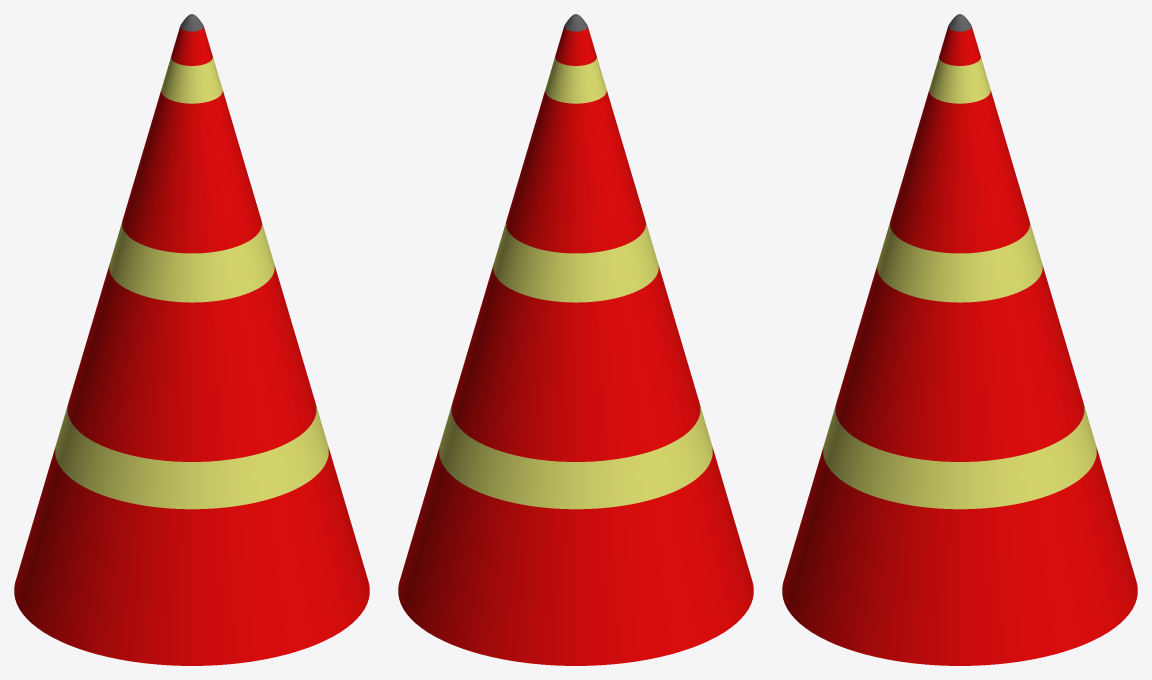
3 renders of one model, left to right at view 1: azimuth 30°, elevation 25°; view 2: azimuth 150°, elevation 25°; view 3: azimuth 270°, elevation 25°, orthographic.
Bounding box in the file's own units: 0.4 × 0.715 × 0.3998.
